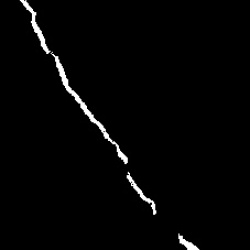crack: (18, 0, 127, 164), (127, 172, 157, 215), (178, 235, 198, 249)
